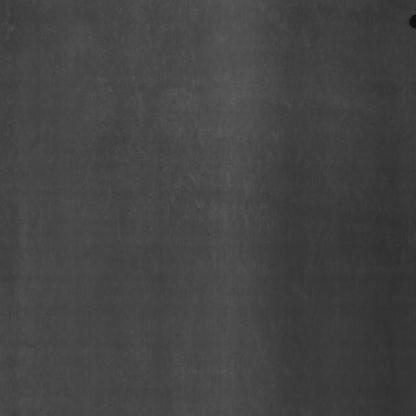punching_hole: (407, 10, 416, 29)
